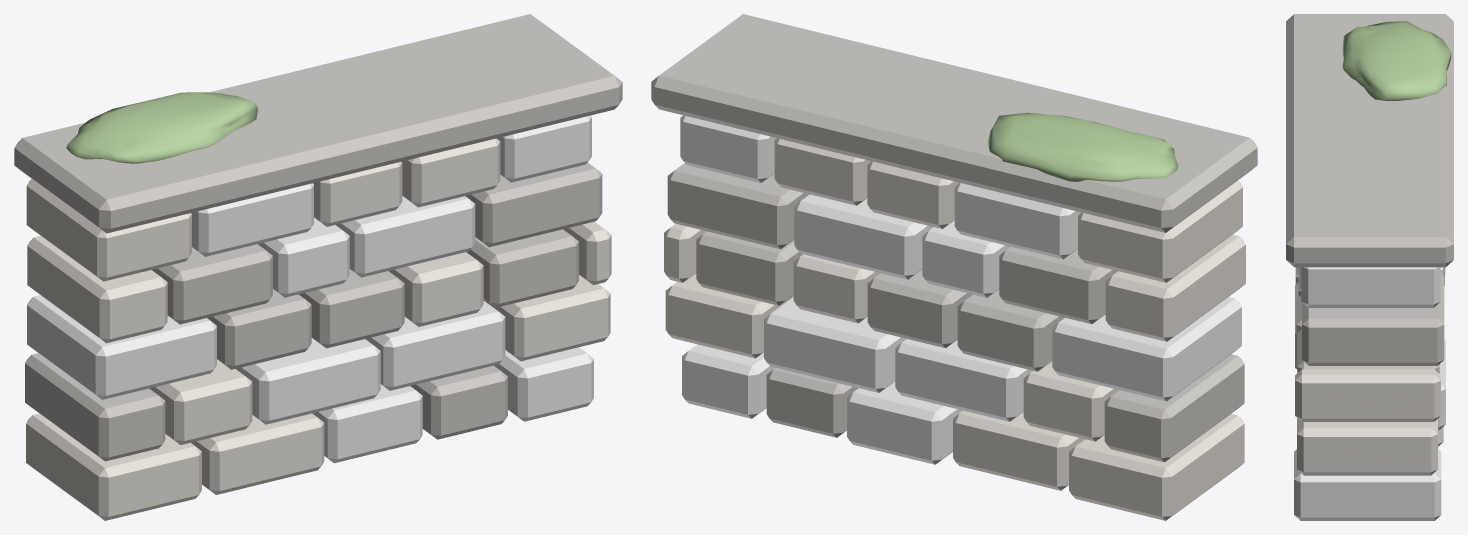
Rendered from prop_wall.glb.
The picture shows the model from 3 angles, left to right: view 1: azimuth 30°, elevation 25°; view 2: azimuth 150°, elevation 25°; view 3: azimuth 270°, elevation 25°; orthographic projection. The views are drawn at different scales.
Visible parts, largest first — view 1: prop_wall; view 2: prop_wall; view 3: prop_wall.
Boxes of the visible parts, x1,y1,x2,y2 form: prop_wall: [14, 14, 622, 520]; prop_wall: [651, 14, 1257, 520]; prop_wall: [1286, 14, 1453, 520].
Size of the model in its own units: 4.05 by 2.55 by 1.25.
